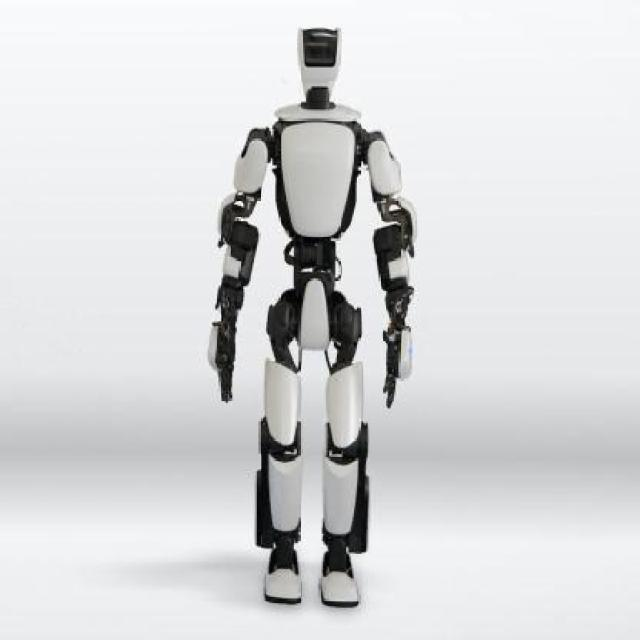Person: (203, 19, 419, 618)
